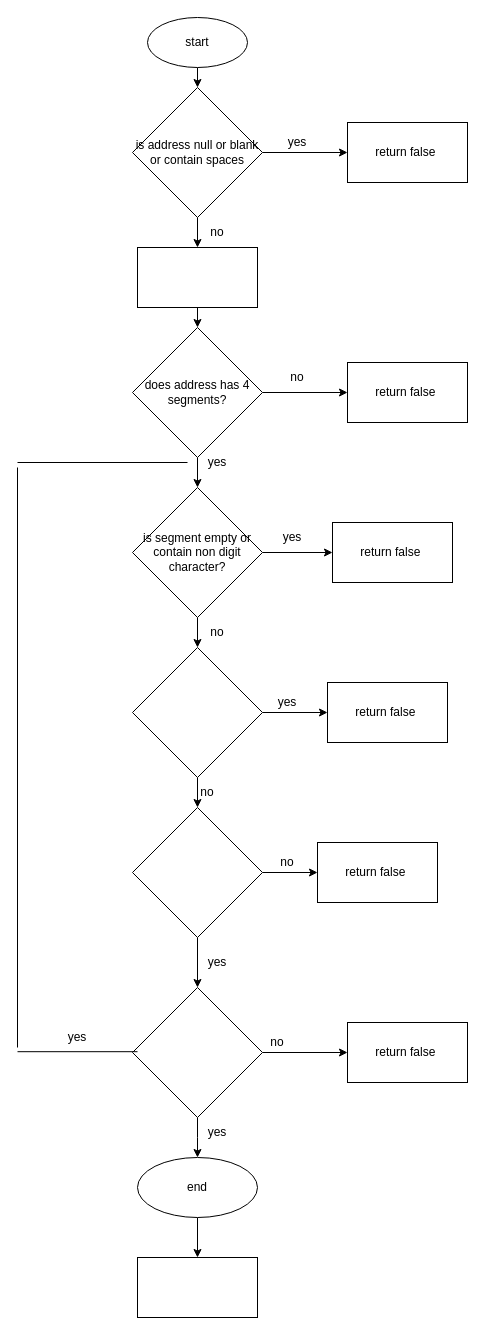
Some shapes in this 485 by 1335 pixel diagram are drawn without their labels. The box of each missing label's shape, as (x1, y1, x2, y2) in pixels:
is integer between 0 and 255?: (132, 986, 262, 1118)
is segment converted to int?: (132, 806, 262, 938)
is segment have leading 0?: (132, 646, 262, 778)
return true: (136, 1256, 258, 1318)
split address into segments using".": (136, 246, 258, 308)
